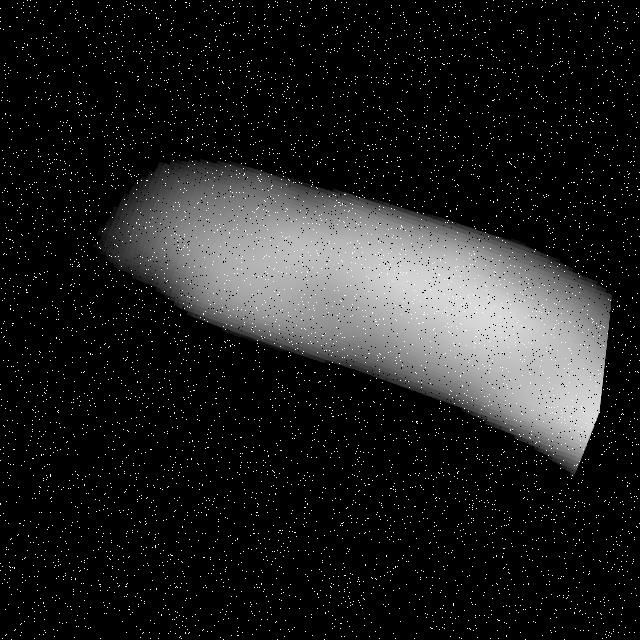person: (49, 88, 634, 503)
